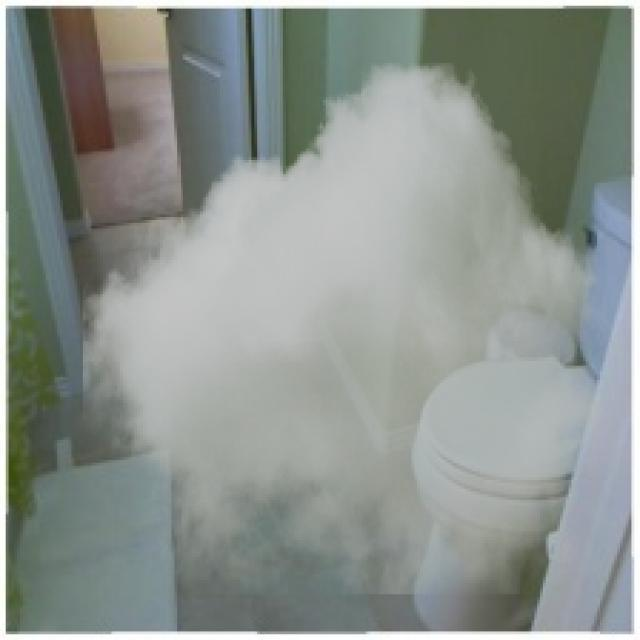Smoke: (83, 62, 606, 594)
